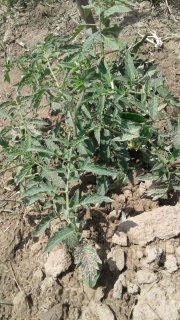tomato diseased leaf: (72, 237, 99, 279)
tomato flower: (140, 24, 166, 53)
tomato plant: (21, 45, 169, 203)
